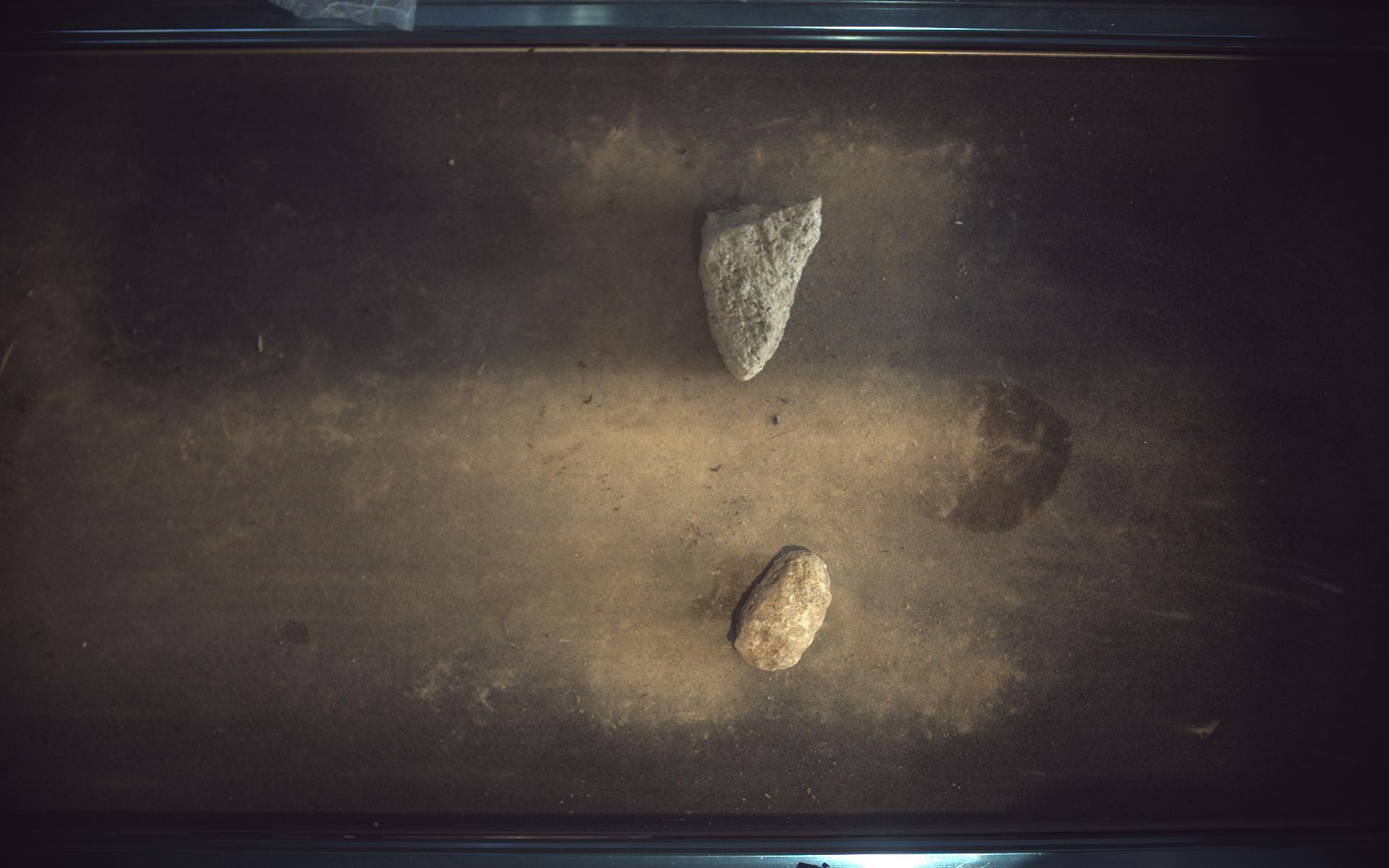stone: (700, 197, 823, 380), (730, 546, 833, 672)
